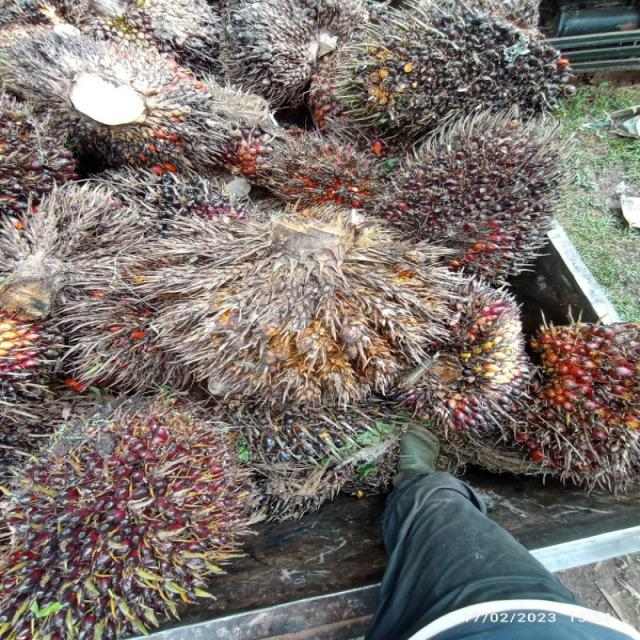fraksi 00: (355, 110, 588, 288), (323, 0, 585, 154), (49, 138, 247, 270), (209, 0, 344, 112)
fraksi 1: (0, 366, 299, 640)
fraksi 3: (524, 262, 640, 488)
fraksi 4: (247, 115, 388, 222)
